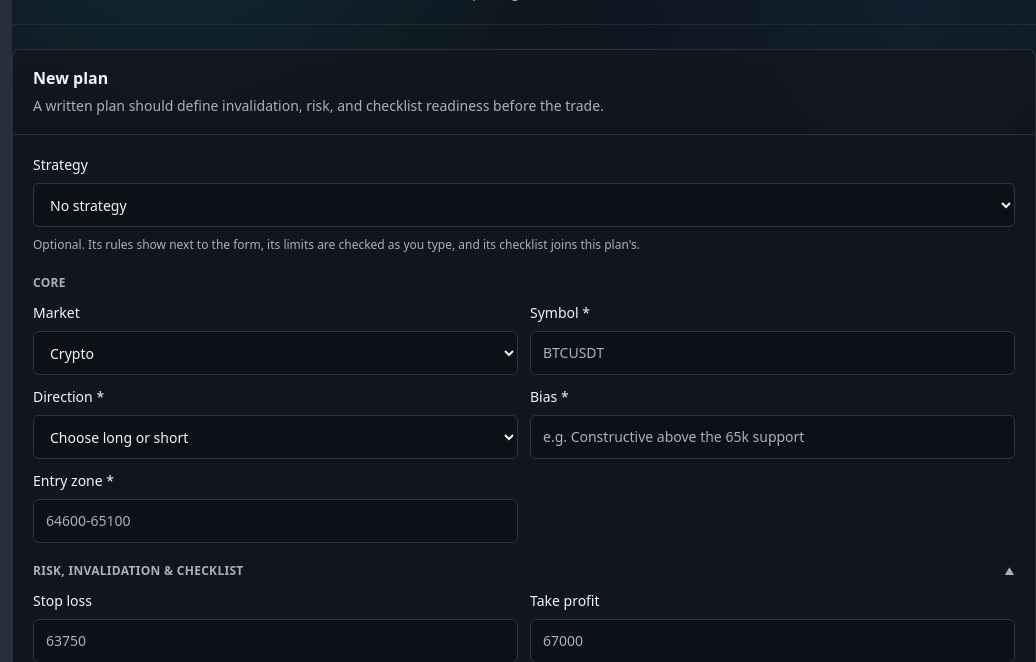
Test: plan form errors are shown, not swallowed › names the fields the server rejected
Type "ETHUSDT" into the field labelled "Symbol *". click: (772, 353)
box: [530,331,1015,375]
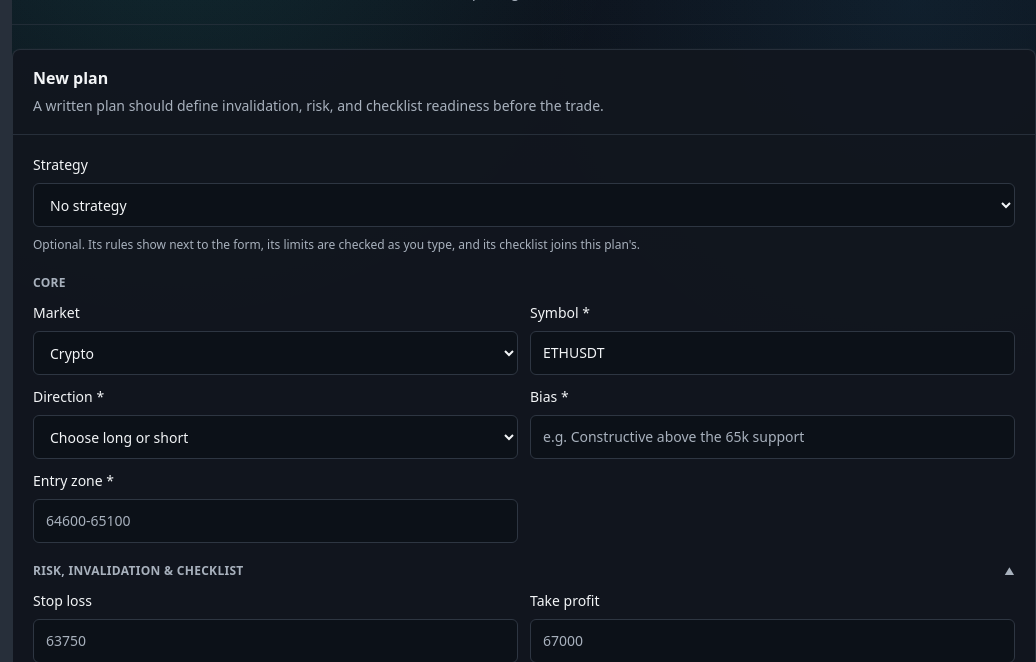
Select "Long" in the dropdown labelled "Direction *". click: (276, 437)
box: [33,415,518,459]
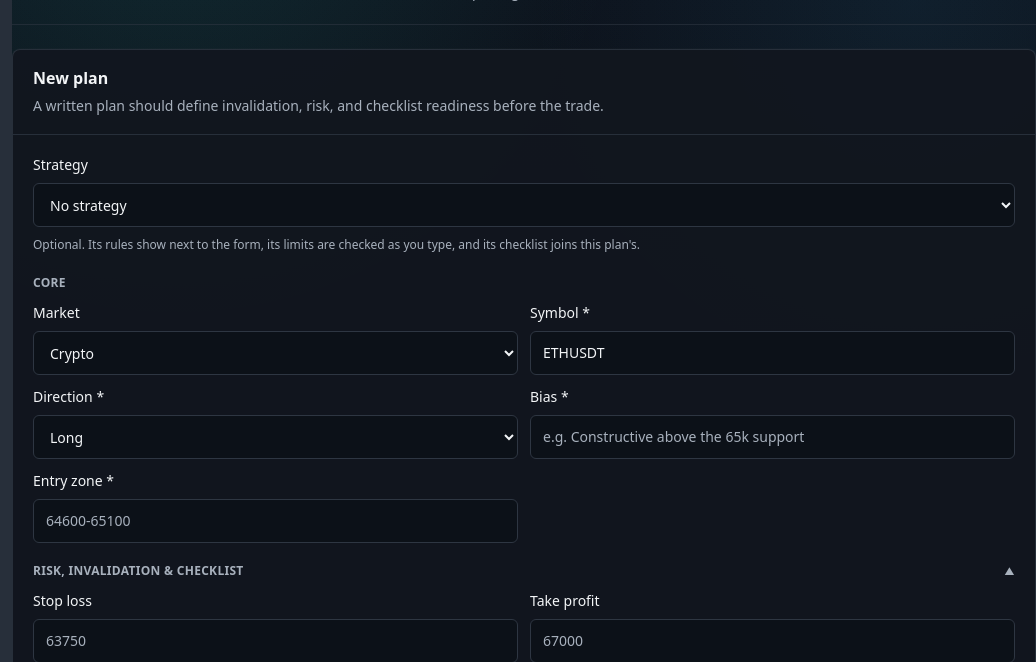
Type "x" into the field labelled "Bias *". click: (772, 437)
box: [530,415,1015,459]
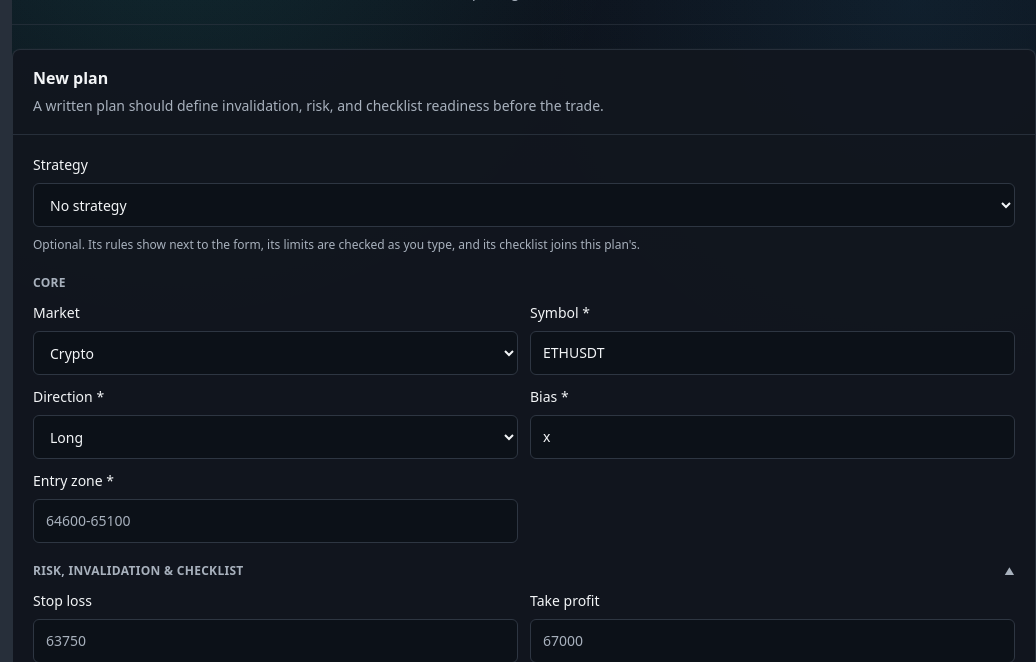
Type "3000" into the field labelled "Entry zone *". click: (276, 521)
box: [33,499,518,543]
(page scrolled)
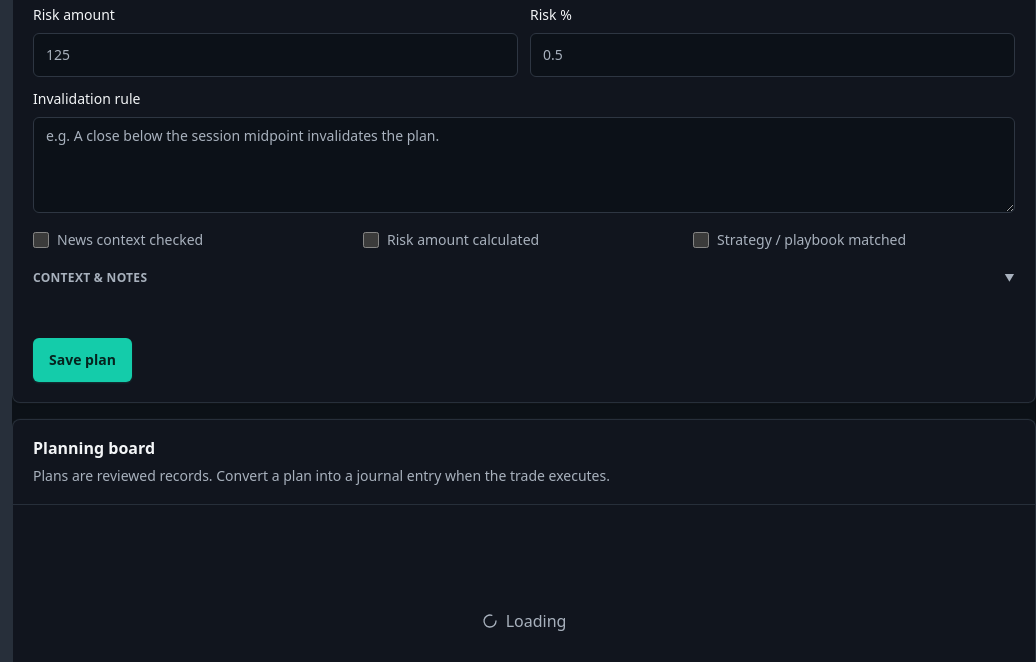
Click the button "Save plan". click: click(82, 360)
box: [33,338,132,382]
(page scrolled)
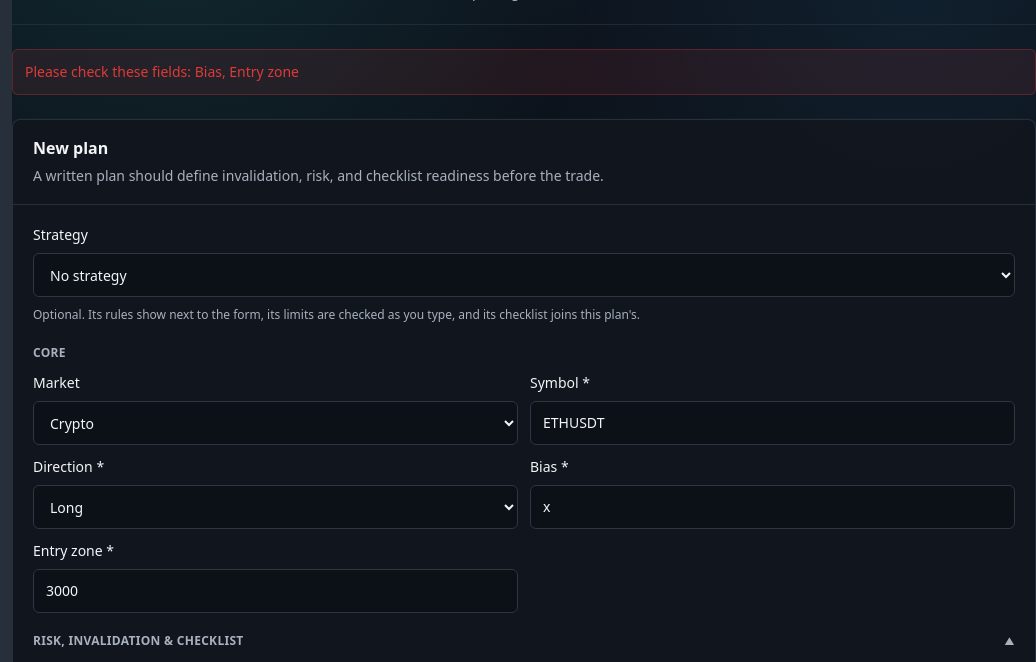
Expected: the message shows "Bias", [25,62,299,81]
Expected: the message shows "Entry zone", [25,62,299,81]
